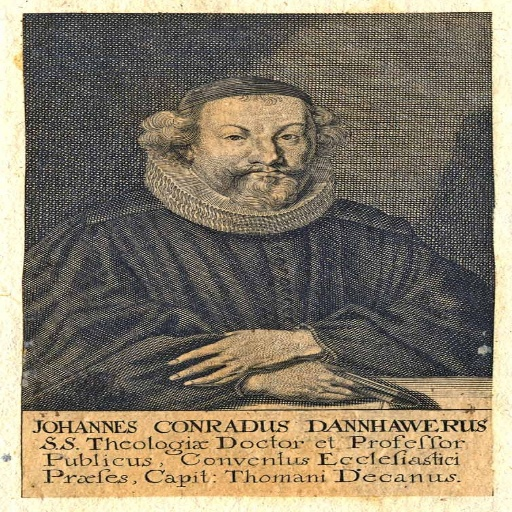hand: (256, 356, 357, 402)
